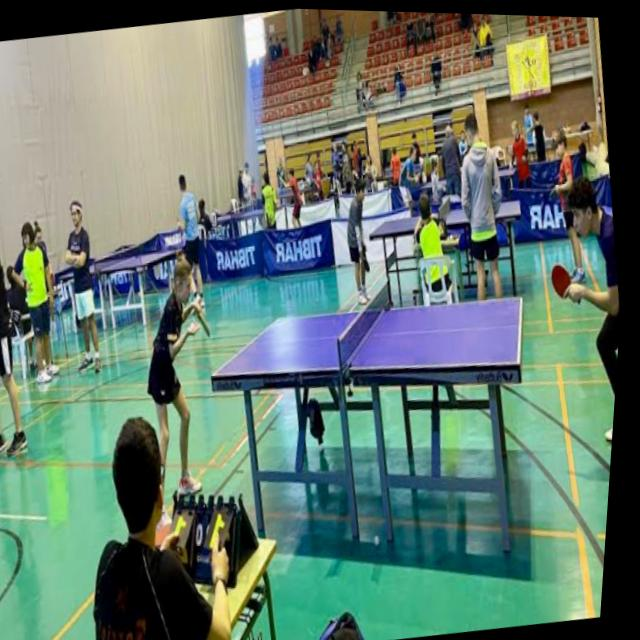TT Net: (334, 273, 394, 381), (94, 243, 144, 281), (436, 194, 453, 232)
TT Racket: (548, 255, 575, 306), (194, 304, 214, 346)
TT Table: (211, 295, 523, 376), (370, 199, 521, 235), (60, 251, 179, 276)
